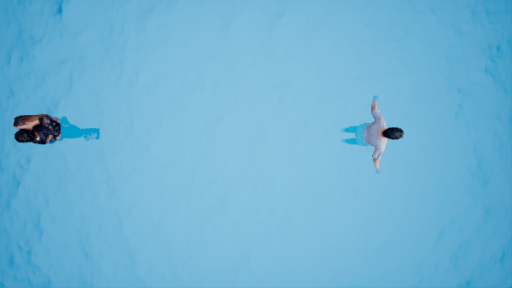person: (332, 94, 403, 174), (7, 108, 105, 148)
